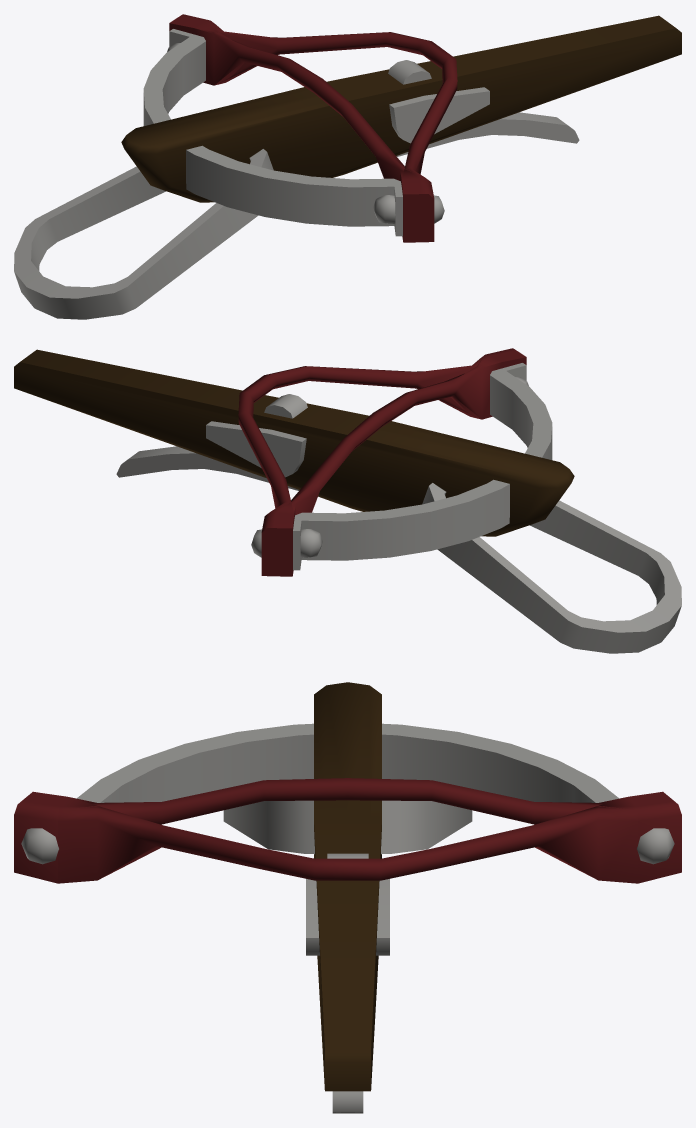
File: crossbow.fbx
3 renders of one model, top to bottom at view 1: azimuth 30°, elevation 25°; view 2: azimuth 150°, elevation 25°; view 3: azimuth 270°, elevation 25°, orthographic. The views are drawn at different scales.
Parts seen in each view (by area): view 1: crossbow, loader, string_unloaded, string_loaded, trigger.001; view 2: crossbow, loader, string_unloaded, string_loaded, trigger.001; view 3: crossbow, string_loaded, string_unloaded, loader, trigger.001.
Part boxes in pixels (x1,y1,x2,y2): crossbow: (121, 15, 681, 236); loader: (14, 149, 273, 319); string_unloaded: (169, 14, 434, 242); string_loaded: (172, 17, 457, 194); trigger.001: (396, 112, 579, 156); crossbow: (14, 349, 574, 570); loader: (422, 483, 681, 653); string_unloaded: (261, 348, 526, 576); string_loaded: (238, 350, 524, 527); trigger.001: (116, 446, 299, 490); crossbow: (21, 682, 674, 1091); string_loaded: (32, 792, 637, 883); string_unloaded: (14, 778, 681, 883); loader: (223, 800, 472, 854); trigger.001: (332, 1091, 363, 1113).
Size of the model in its own units: 166 by 39.88 by 111.
